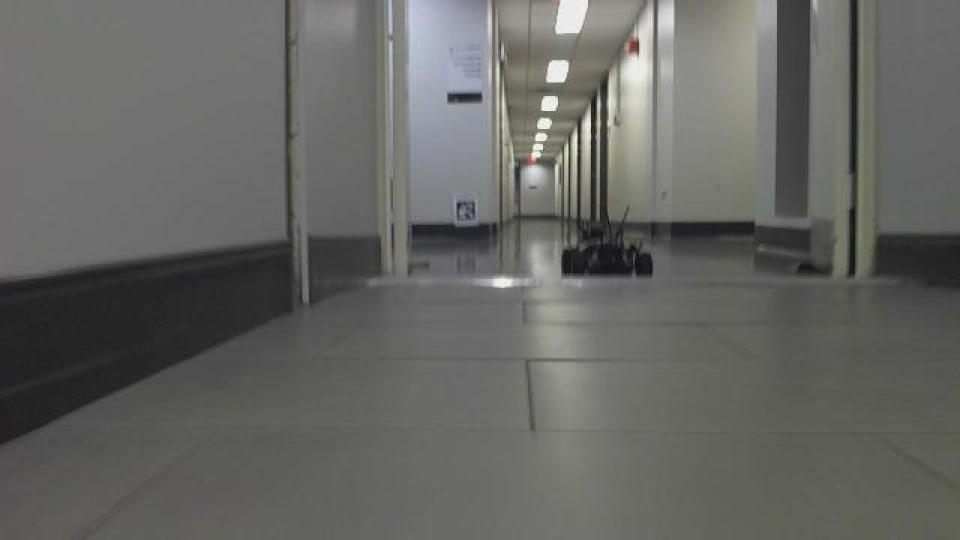car: (556, 202, 655, 280)
